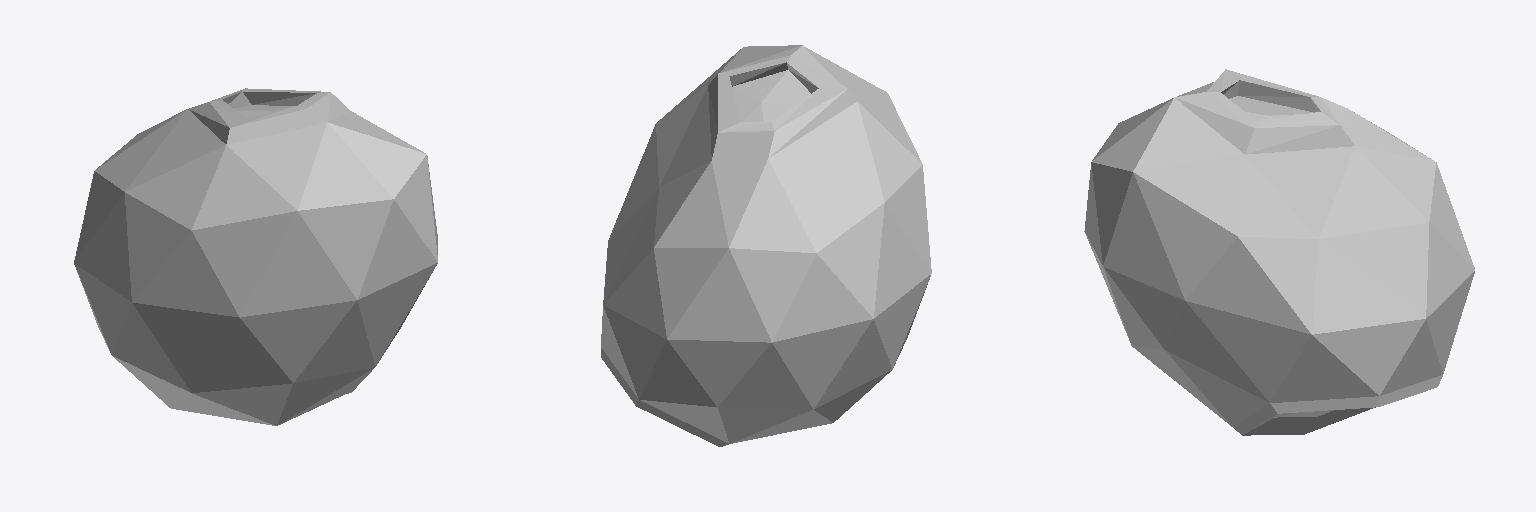
Rendered from asteroid.obj.
3 renders of one model, left to right at view 1: azimuth 30°, elevation 25°; view 2: azimuth 150°, elevation 25°; view 3: azimuth 270°, elevation 25°, orthographic.
Parts seen in each view (by area): view 1: Icosphere; view 2: Icosphere; view 3: Icosphere.
Boxes of the visible parts, box(x1,y1,x2,y2) form: Icosphere: box(74, 88, 437, 425); Icosphere: box(601, 45, 931, 446); Icosphere: box(1084, 69, 1474, 435).
Size of the model in its own units: 4.68 by 5.3 by 5.51.